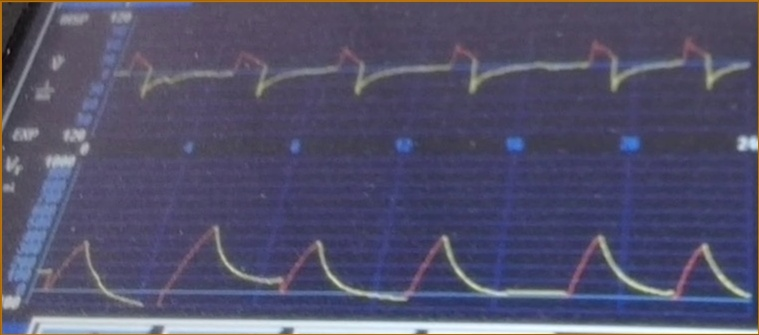Premature_cycling Flow: (124, 24, 747, 125)
Premature_cycling Volume: (38, 222, 750, 315)
